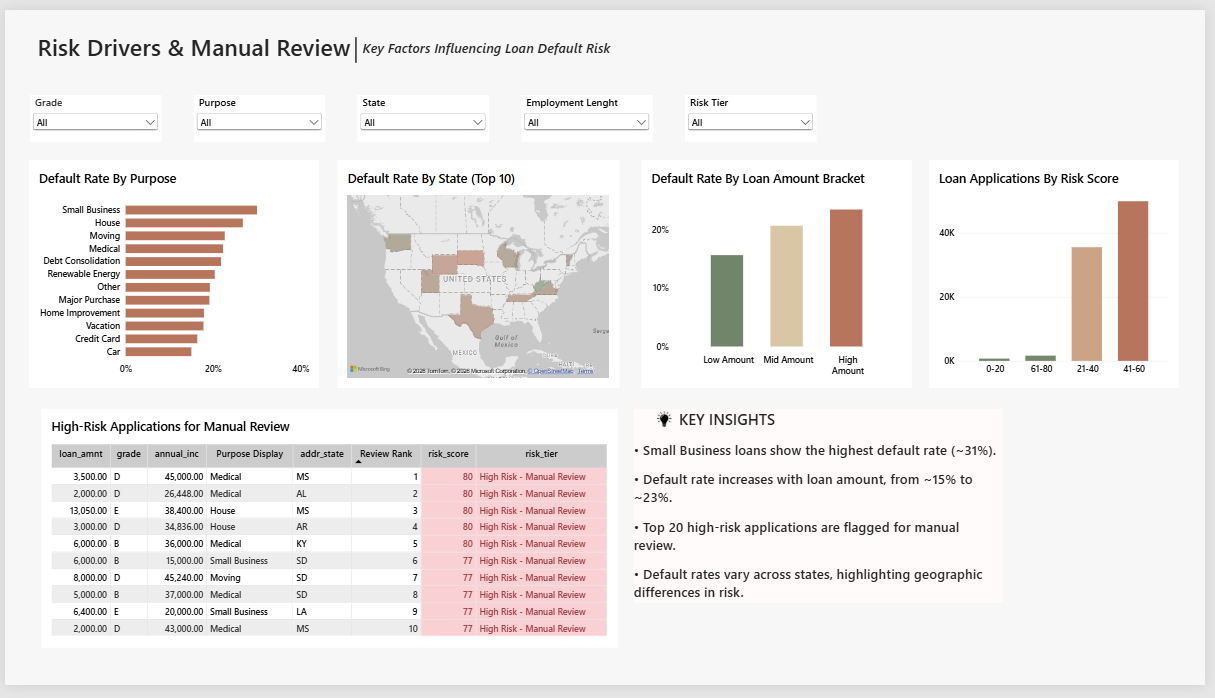

The dashboard page shown, as its layout file describes it:
{"tool":"powerbi","page":{"name":"Risk Analysis","canvas":[1920,1080],"ordinal":1},"visuals":[{"type":"clusteredBarChart","title":"Default Rate By Purpose","fields":{"Y":["public loan_final.Overall Default Rate"],"Category":["public loan_final.Purpose Display"]},"box":[37.5,240,465,365],"z":0},{"type":"filledMap","title":"Default Rate By State (Top 10)","fields":{"Category":["public loan_final.addr_state"]},"box":[532.5,240,450,365],"z":1000},{"type":"slicer","fields":{"Values":["public loan_final.grade"]},"box":[40,135,210,75],"z":2000},{"type":"slicer","fields":{"Values":["public loan_final.purpose"]},"box":[302.1,135,210,75],"z":3000},{"type":"slicer","fields":{"Values":["public loan_final.addr_state"]},"box":[564.2,135,210,75.4],"z":4000},{"type":"slicer","fields":{"Values":["public loan_final.emp_length"]},"box":[826.3,135,210,75],"z":5000},{"type":"slicer","fields":{"Values":["public loan_final.risk_tier"]},"box":[1088.3,135,210,75],"z":6000},{"type":"clusteredColumnChart","title":"Default Rate By Loan Amount Bracket","fields":{"Y":["public loan_final.Overall Default Rate"],"Category":["public loan_final.Loan_Bracket"]},"box":[1017.5,240,432.5,365],"z":7000},{"type":"columnChart","title":"Loan Applications By Risk Score","fields":{"Y":["CountNonNull(public loan_final.loan_amnt)"],"Category":["public loan_final.Risk Score Band"]},"box":[1477.5,240,400,365],"z":8000},{"type":"tableEx","title":"High-Risk Applications for Manual Review","fields":{"Values":["public loan_final.loan_amnt","public loan_final.grade","public loan_final.annual_inc","public loan_final.Purpose Display","public loan_final.addr_state","public loan_final.Review Rank","public loan_final.risk_score","public loan_final.risk_tier"]},"box":[57.1,638.7,922.5,382.5],"z":9000},{"type":"group","id":"g1","title":"Group 1","box":[1006,638,590,310],"z":9002,"group":"g2"},{"type":"group","id":"g2","title":"Group 6","box":[1006,638,590,310],"z":10000},{"type":"textbox","box":[13.3,33.3,576.7,60],"z":10001},{"type":"shape","box":[553,43.3,15,40],"z":10002},{"type":"textbox","box":[571.7,46.7,422.5,32.5],"z":10003},{"type":"textbox","box":[1006,638,590,310],"z":11000,"group":"g1"},{"type":"image","box":[1028.8,641.9,53.7,24.9],"z":12000,"group":"g1"}]}

Visuals, with their boxes in screenshot pixels (x1, y1, x2, y2), scaled from the page's 1920x1080 canvas onto the 1215x698 screenshot:
"Default Rate By Purpose" clusteredBarChart: crop(24, 155, 318, 391)
"Default Rate By State (Top 10)" filledMap: crop(337, 155, 622, 391)
slicer - public loan_final.grade: crop(25, 87, 158, 136)
slicer - public loan_final.purpose: crop(191, 87, 324, 136)
slicer - public loan_final.addr_state: crop(357, 87, 490, 136)
slicer - public loan_final.emp_length: crop(523, 87, 656, 136)
slicer - public loan_final.risk_tier: crop(689, 87, 822, 136)
"Default Rate By Loan Amount Bracket" clusteredColumnChart: crop(644, 155, 918, 391)
"Loan Applications By Risk Score" columnChart: crop(935, 155, 1188, 391)
"High-Risk Applications for Manual Review" tableEx: crop(36, 413, 620, 660)
"Group 1" group: crop(637, 412, 1010, 613)
"Group 6" group: crop(637, 412, 1010, 613)
textbox: crop(8, 22, 373, 60)
shape: crop(350, 28, 359, 54)
textbox: crop(362, 30, 629, 51)
textbox: crop(637, 412, 1010, 613)
image: crop(651, 415, 685, 431)
